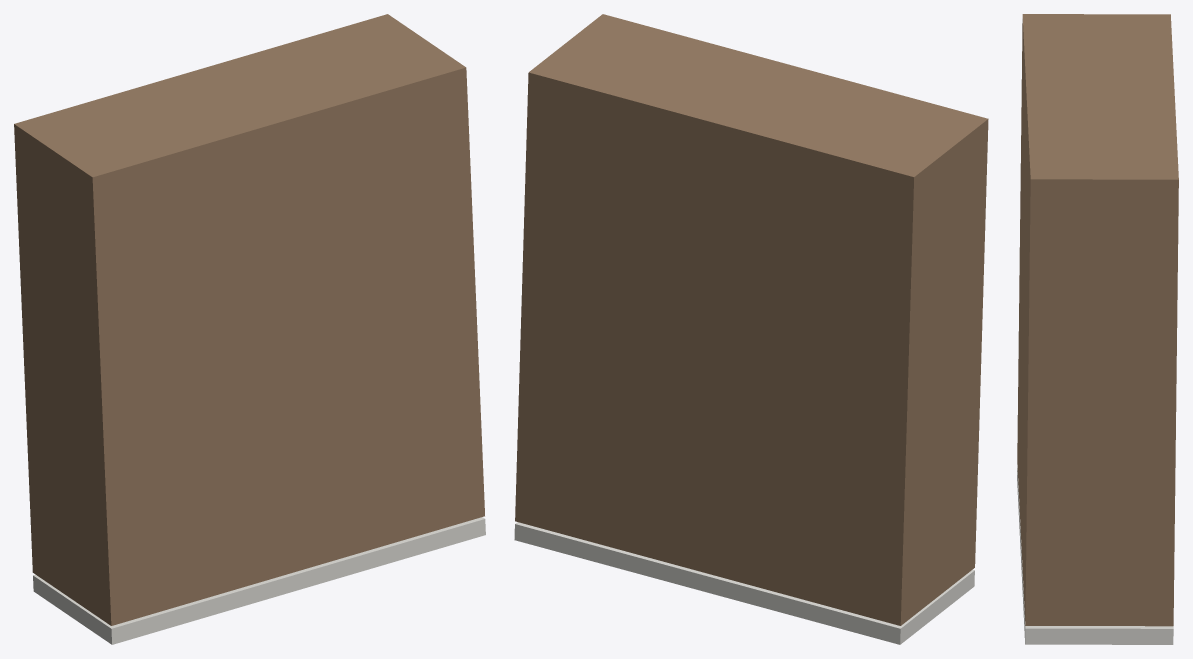
The picture shows the model from 3 angles, left to right: view 1: azimuth 30°, elevation 25°; view 2: azimuth 150°, elevation 25°; view 3: azimuth 270°, elevation 25°; orthographic projection. The views are drawn at different scales.
Visible parts, largest first — view 1: cabinet_carcass/0, front_front/1; view 2: cabinet_carcass/0, front_front/1; view 3: cabinet_carcass/0, front_front/1.
Part boxes in pixels (box(x1,y1,x2,y2)): cabinet_carcass/0: box(14, 14, 484, 625); front_front/1: box(33, 517, 485, 644); cabinet_carcass/0: box(515, 14, 988, 625); front_front/1: box(514, 522, 974, 644); cabinet_carcass/0: box(1017, 14, 1178, 626); front_front/1: box(1017, 465, 1173, 644).
Bounding box in the file's own units: 0.4608 × 0.5534 × 0.167.
